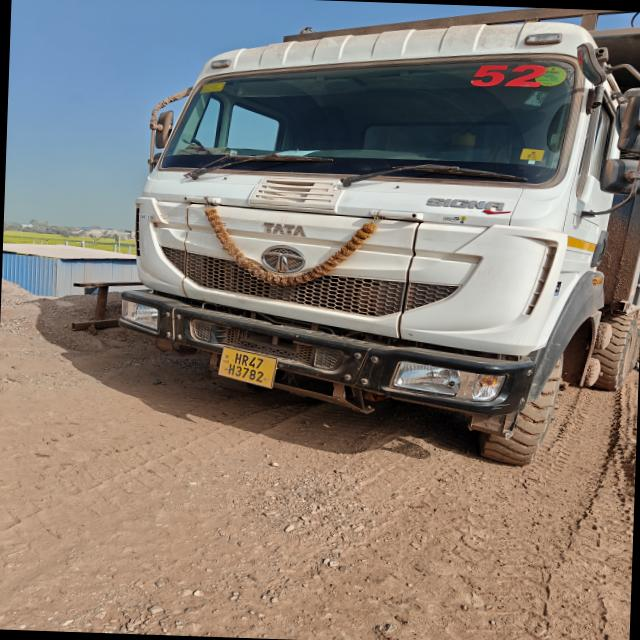license_plate: (220, 347, 277, 388)
